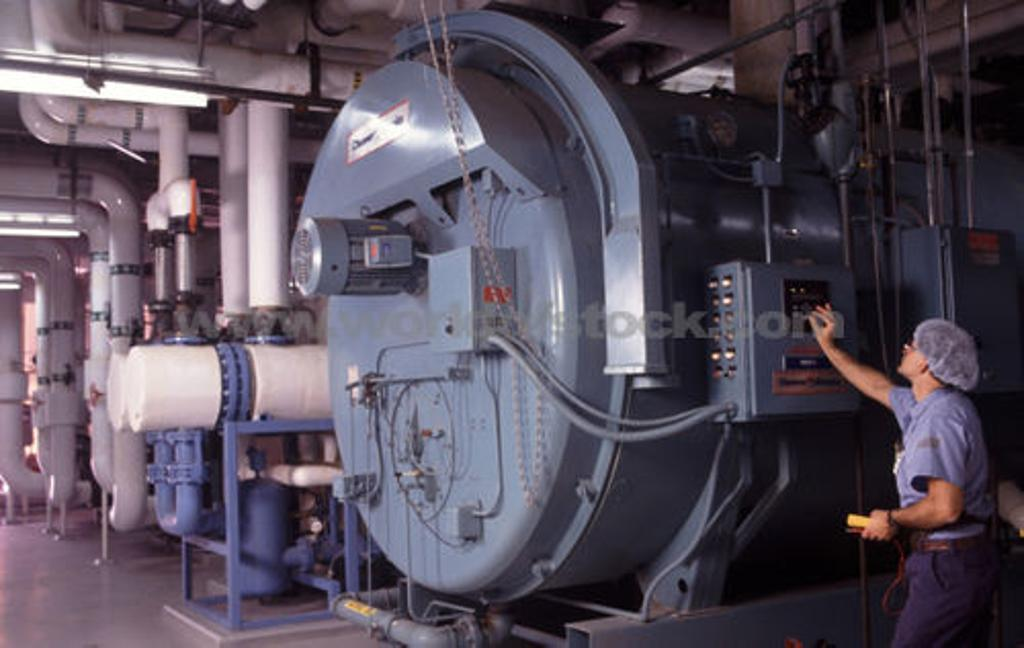face: (896, 336, 922, 371)
